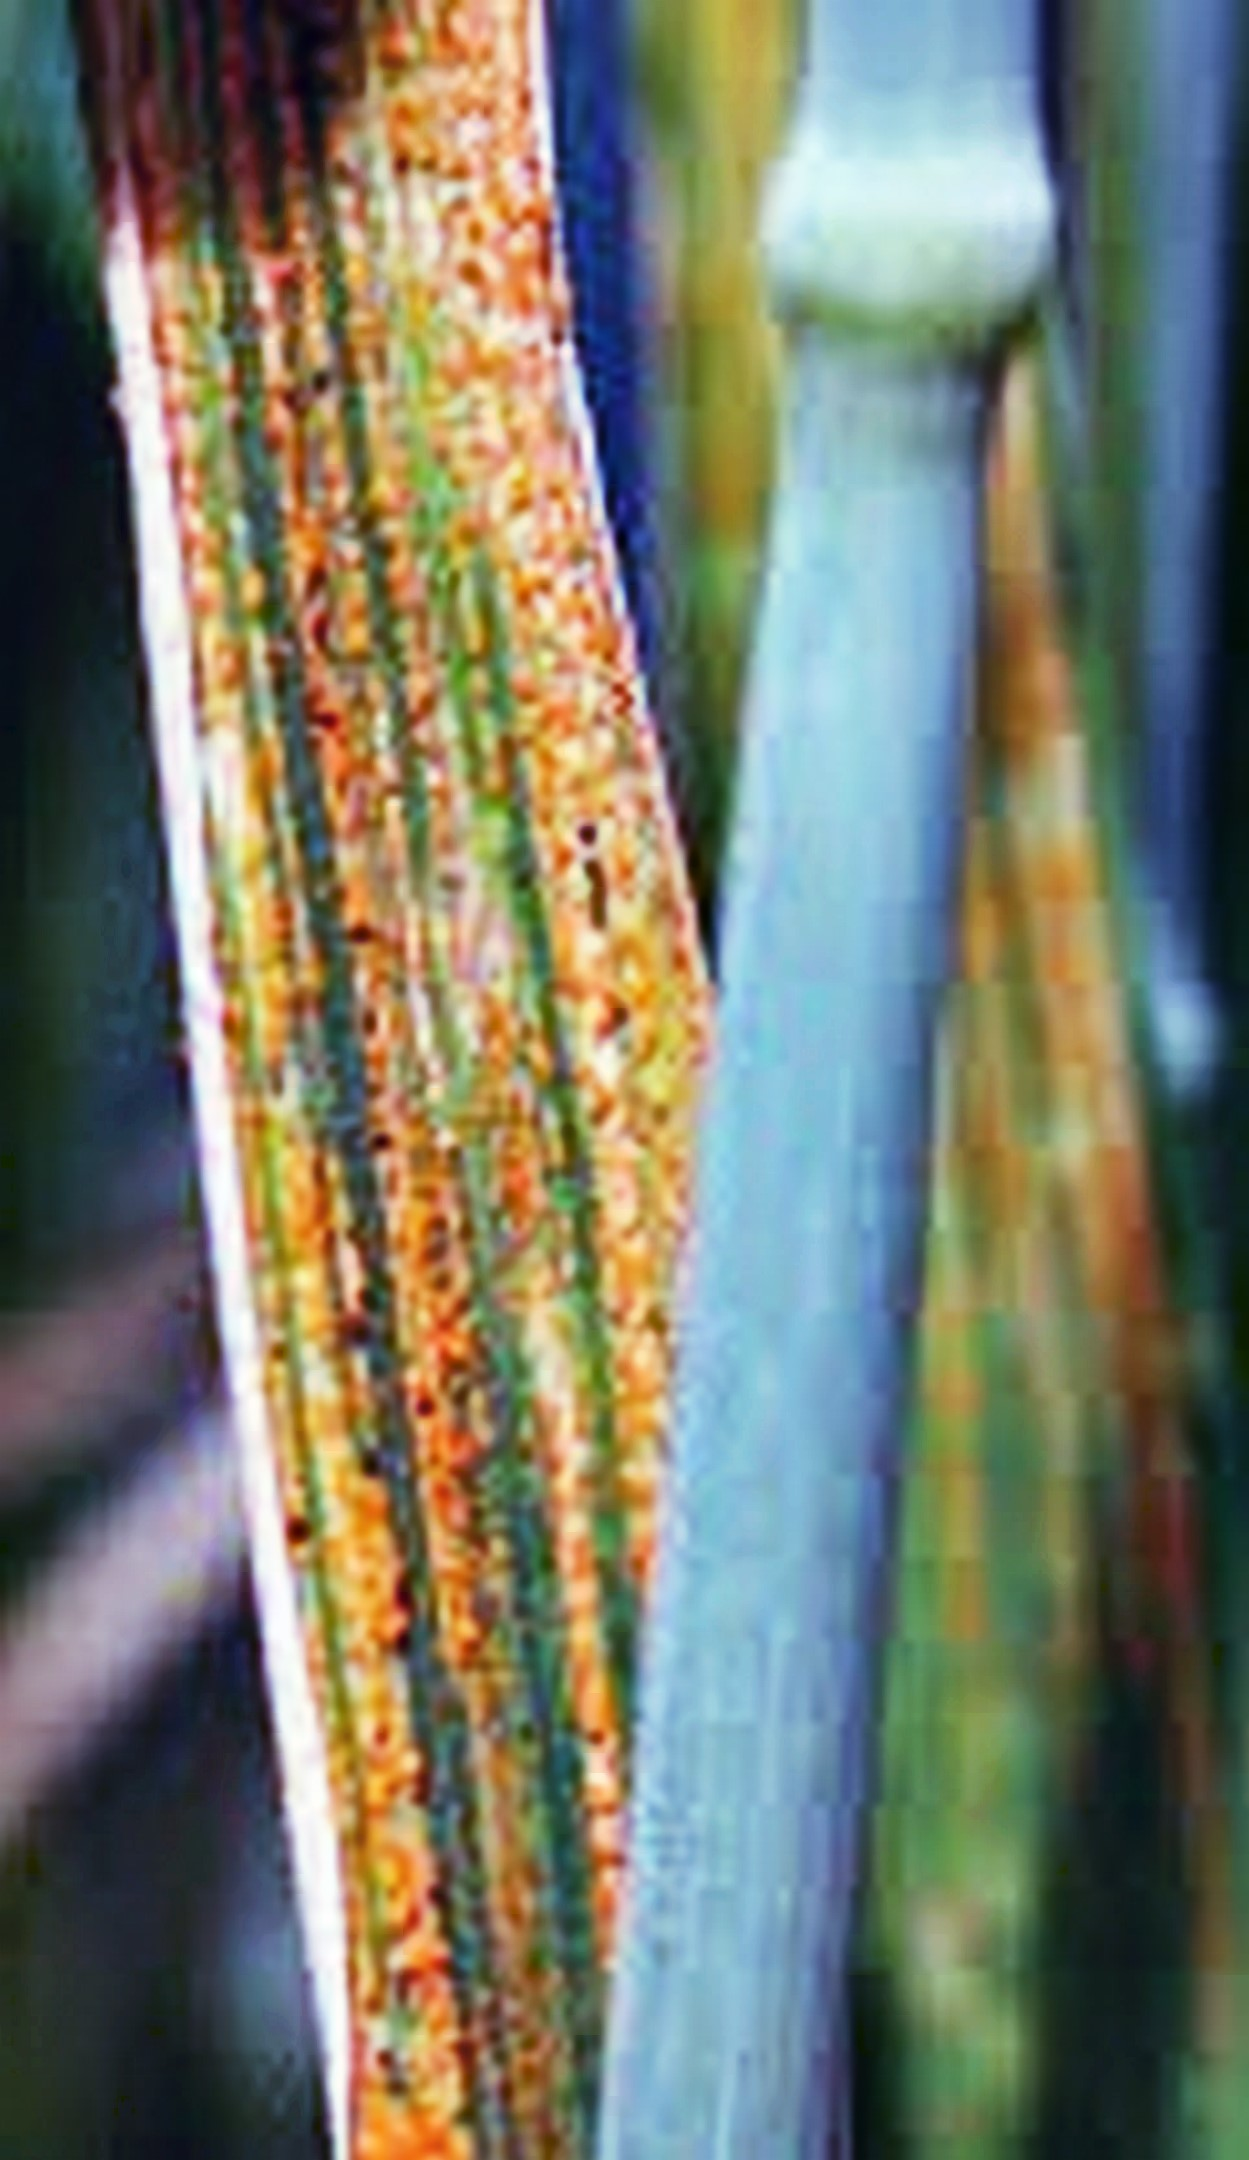Leaf Rust: (114, 73, 769, 2117)
